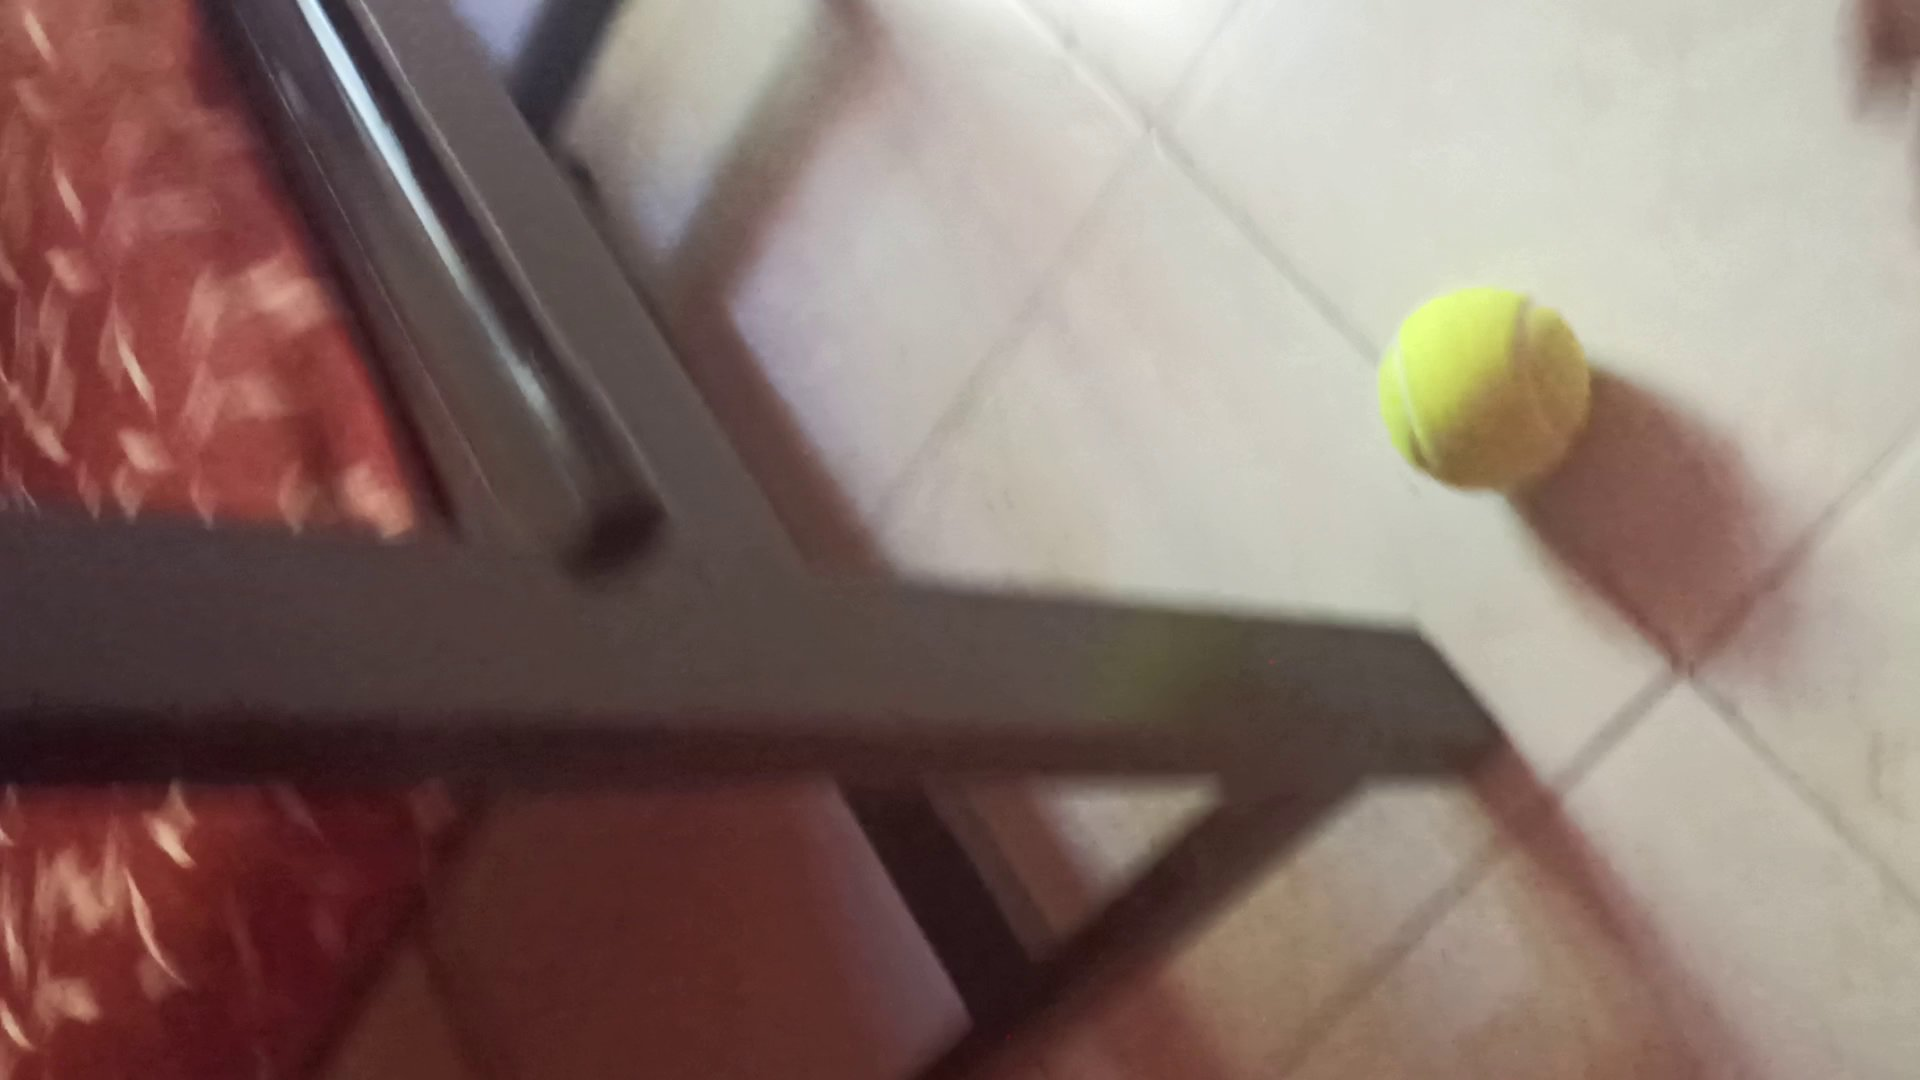Tennis-Ball: (1378, 287, 1592, 491)
